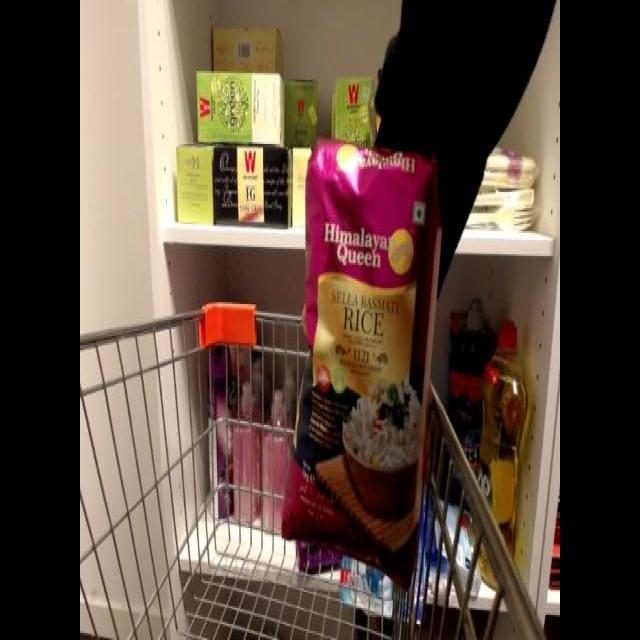Basmati Rice: (276, 142, 444, 580)
